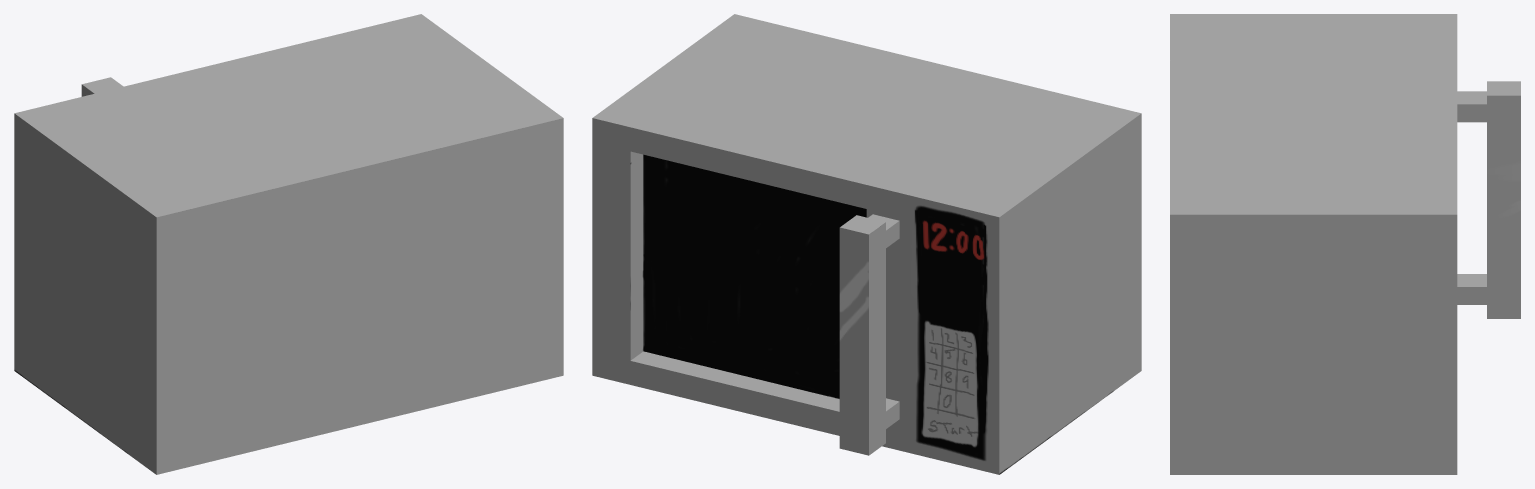
The model's file is MICROWAVE3.fbx.
3 views of the same model, side by side, from view 1: azimuth 30°, elevation 25°; view 2: azimuth 150°, elevation 25°; view 3: azimuth 270°, elevation 25° (orthographic).
Visible parts, largest first — view 1: Cube; view 2: Cube; view 3: Cube.
Boxes of the visible parts, box(x1,y1,x2,y2) form: Cube: box(14, 14, 563, 474); Cube: box(592, 14, 1141, 474); Cube: box(1170, 14, 1520, 474).
Size of the model in its own units: 331 by 200 by 244.
Materials: 1 (1 with a texture image).
